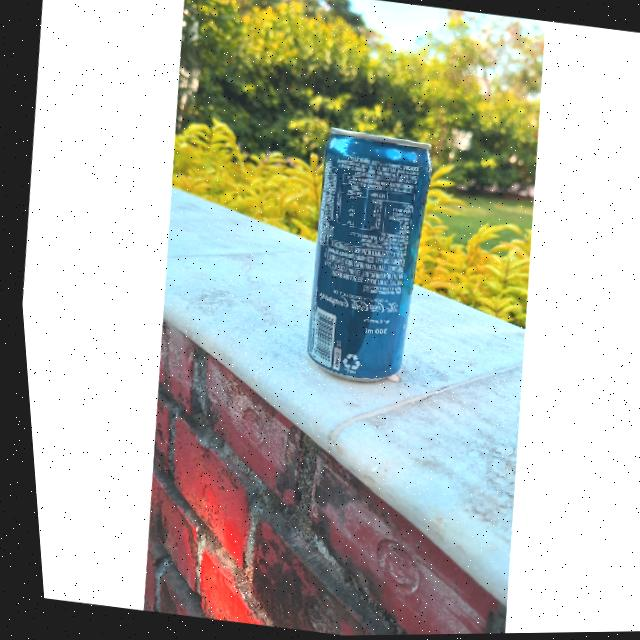Thums Up: (286, 121, 442, 382)
